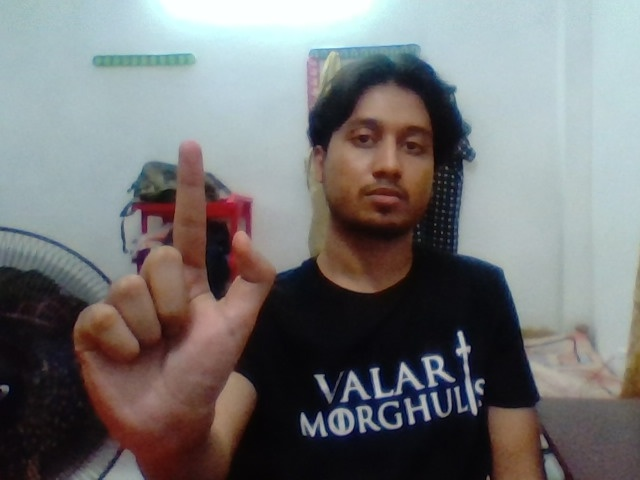J: (71, 124, 284, 378)
